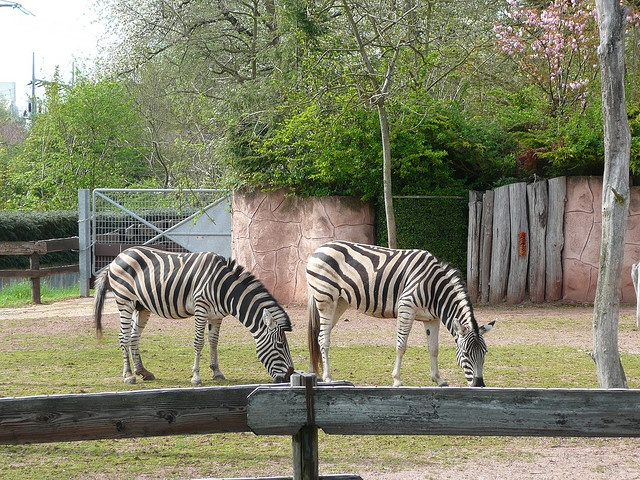zebra: (92, 245, 294, 385), (302, 239, 494, 386)
